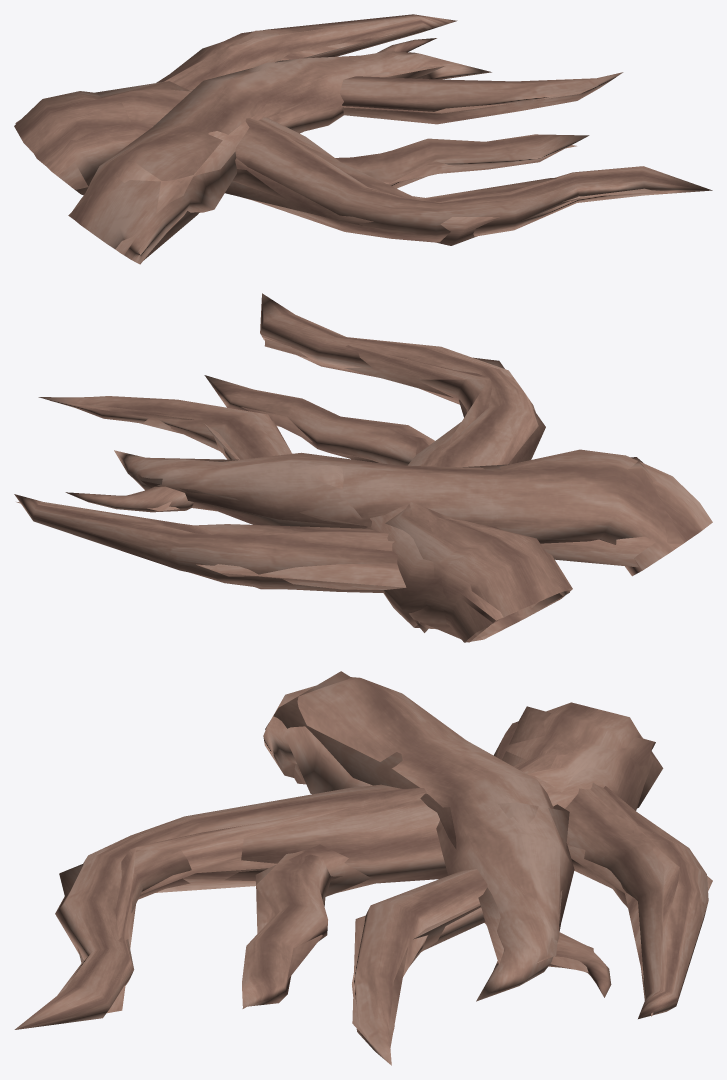
File: RootsHanging.fbx
3 renders of one model, top to bottom at view 1: azimuth 30°, elevation 25°; view 2: azimuth 150°, elevation 25°; view 3: azimuth 270°, elevation 25°, orthographic. The views are drawn at different scales.
Parts seen in each view (by area): view 1: RootsHanging, Col_RootsHanging.001; view 2: RootsHanging, Col_RootsHanging.001; view 3: RootsHanging, Col_RootsHanging.001.
Part boxes in pixels (<box>): RootsHanging: <box>14,14,712,264</box>; Col_RootsHanging.001: <box>15,25,667,259</box>; RootsHanging: <box>14,293,712,642</box>; Col_RootsHanging.001: <box>16,339,687,642</box>; RootsHanging: <box>14,677,708,1065</box>; Col_RootsHanging.001: <box>58,671,712,1049</box>.
Size of the model in its own units: 420 by 76.54 by 343.
